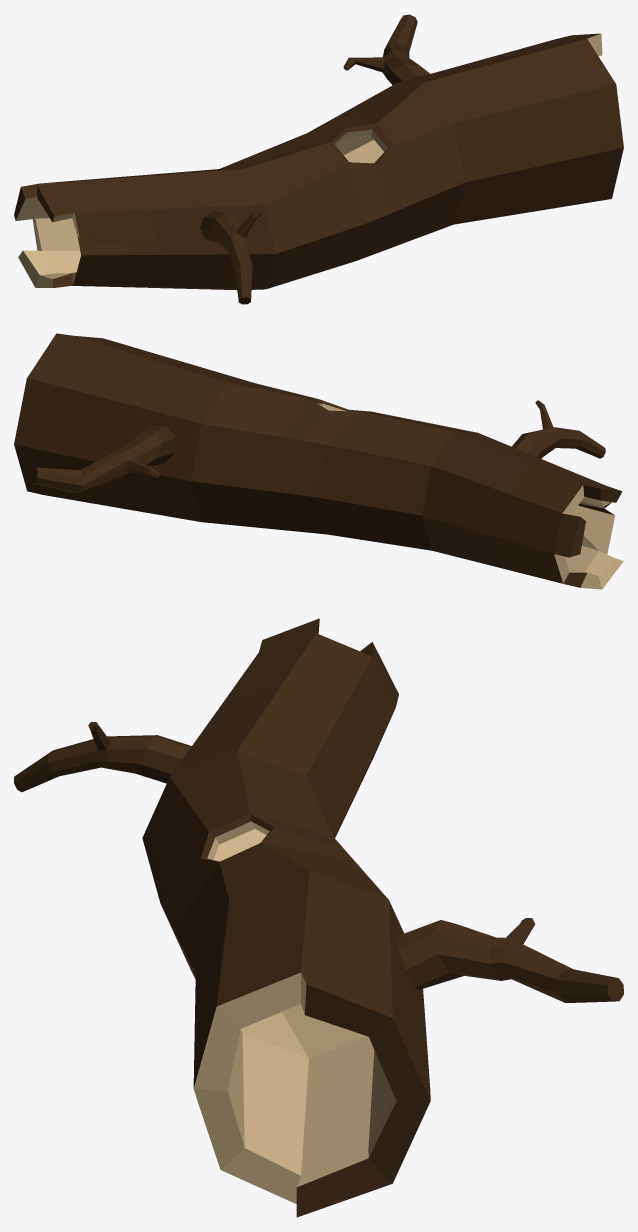
The model's file is ToterBaum.fbx.
3 renders of one model, top to bottom at view 1: azimuth 30°, elevation 25°; view 2: azimuth 150°, elevation 25°; view 3: azimuth 270°, elevation 25°, orthographic. The views are drawn at different scales.
Parts seen in each view (by area): view 1: ToterBaum; view 2: ToterBaum; view 3: ToterBaum.
Part boxes in pixels (x1=…): ToterBaum: x1=14, y1=14, x2=623, y2=304; ToterBaum: x1=14, y1=333, x2=623, y2=589; ToterBaum: x1=14, y1=618, x2=623, y2=1217.
Size of the model in its own units: 322 by 88.82 by 210.
